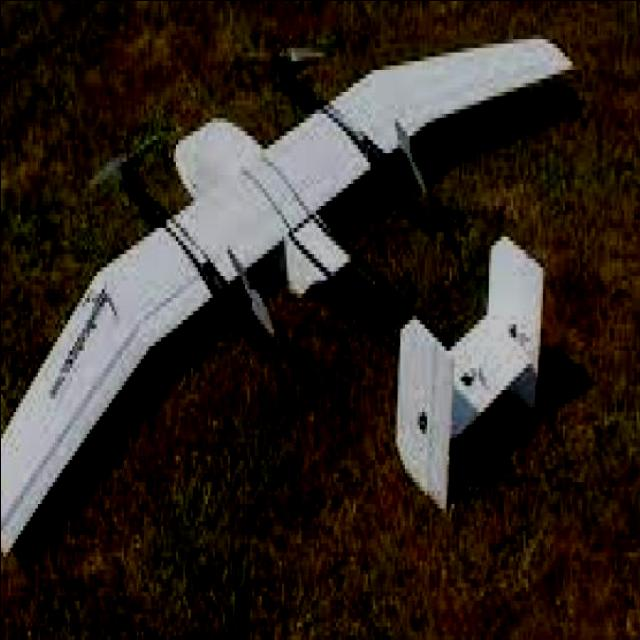plane: (0, 29, 583, 556)
